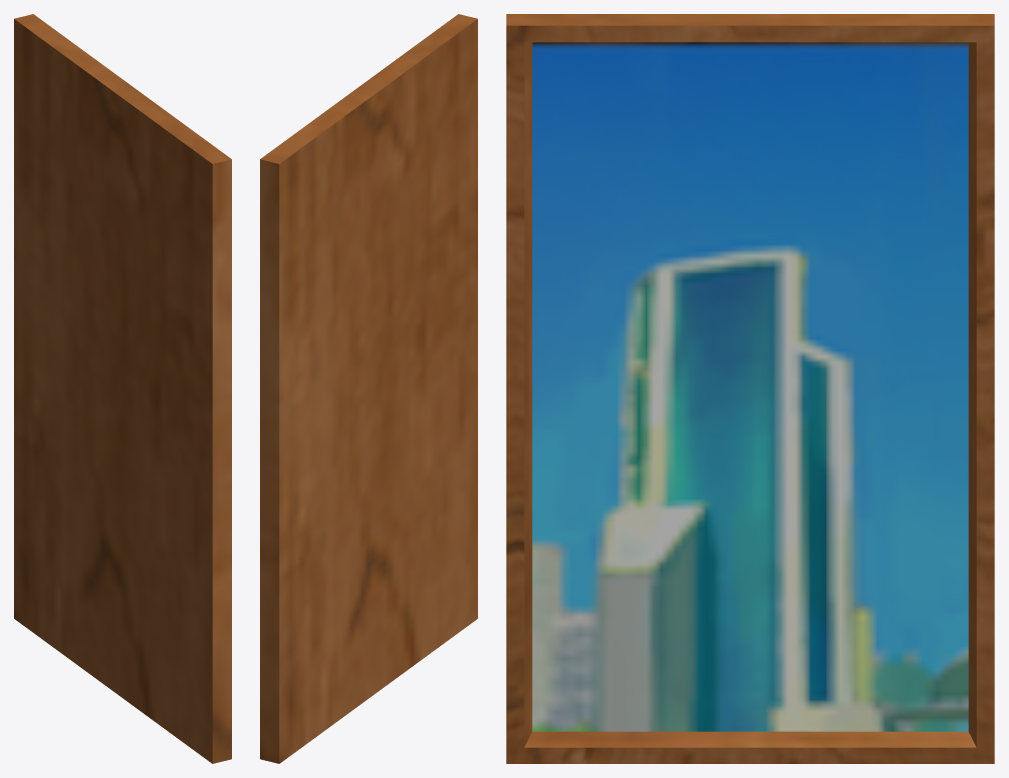
File: M_Home_Garden_Painting_011.fbx
3 views of the same model, side by side, from view 1: azimuth 30°, elevation 25°; view 2: azimuth 150°, elevation 25°; view 3: azimuth 270°, elevation 25° (orthographic). The views are drawn at different scales.
Parts seen in each view (by area): view 1: M_Home_Garden_Painting_011; view 2: M_Home_Garden_Painting_011; view 3: M_Home_Garden_Painting_011.
Part boxes in pixels (bbox=[...]): M_Home_Garden_Painting_011: bbox=[14, 14, 231, 763]; M_Home_Garden_Painting_011: bbox=[260, 14, 477, 763]; M_Home_Garden_Painting_011: bbox=[506, 14, 994, 763].
Size of the model in its own units: 2.86 by 83.66 by 50.18.
